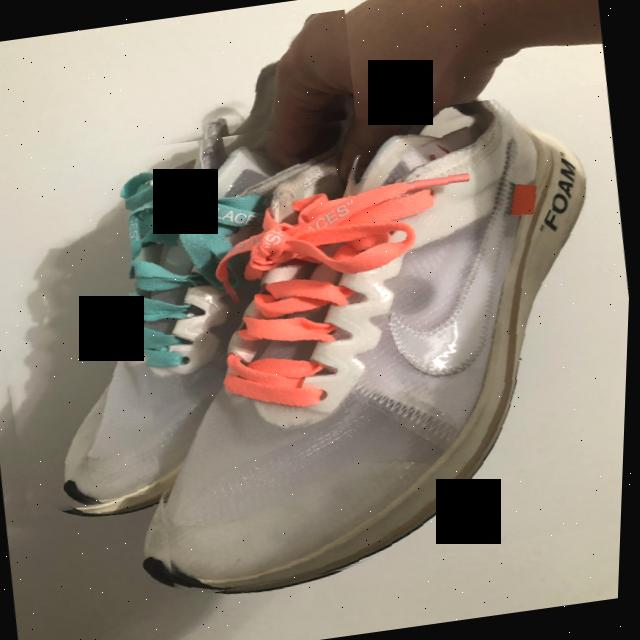shoe: (108, 83, 638, 600), (0, 9, 409, 521)
